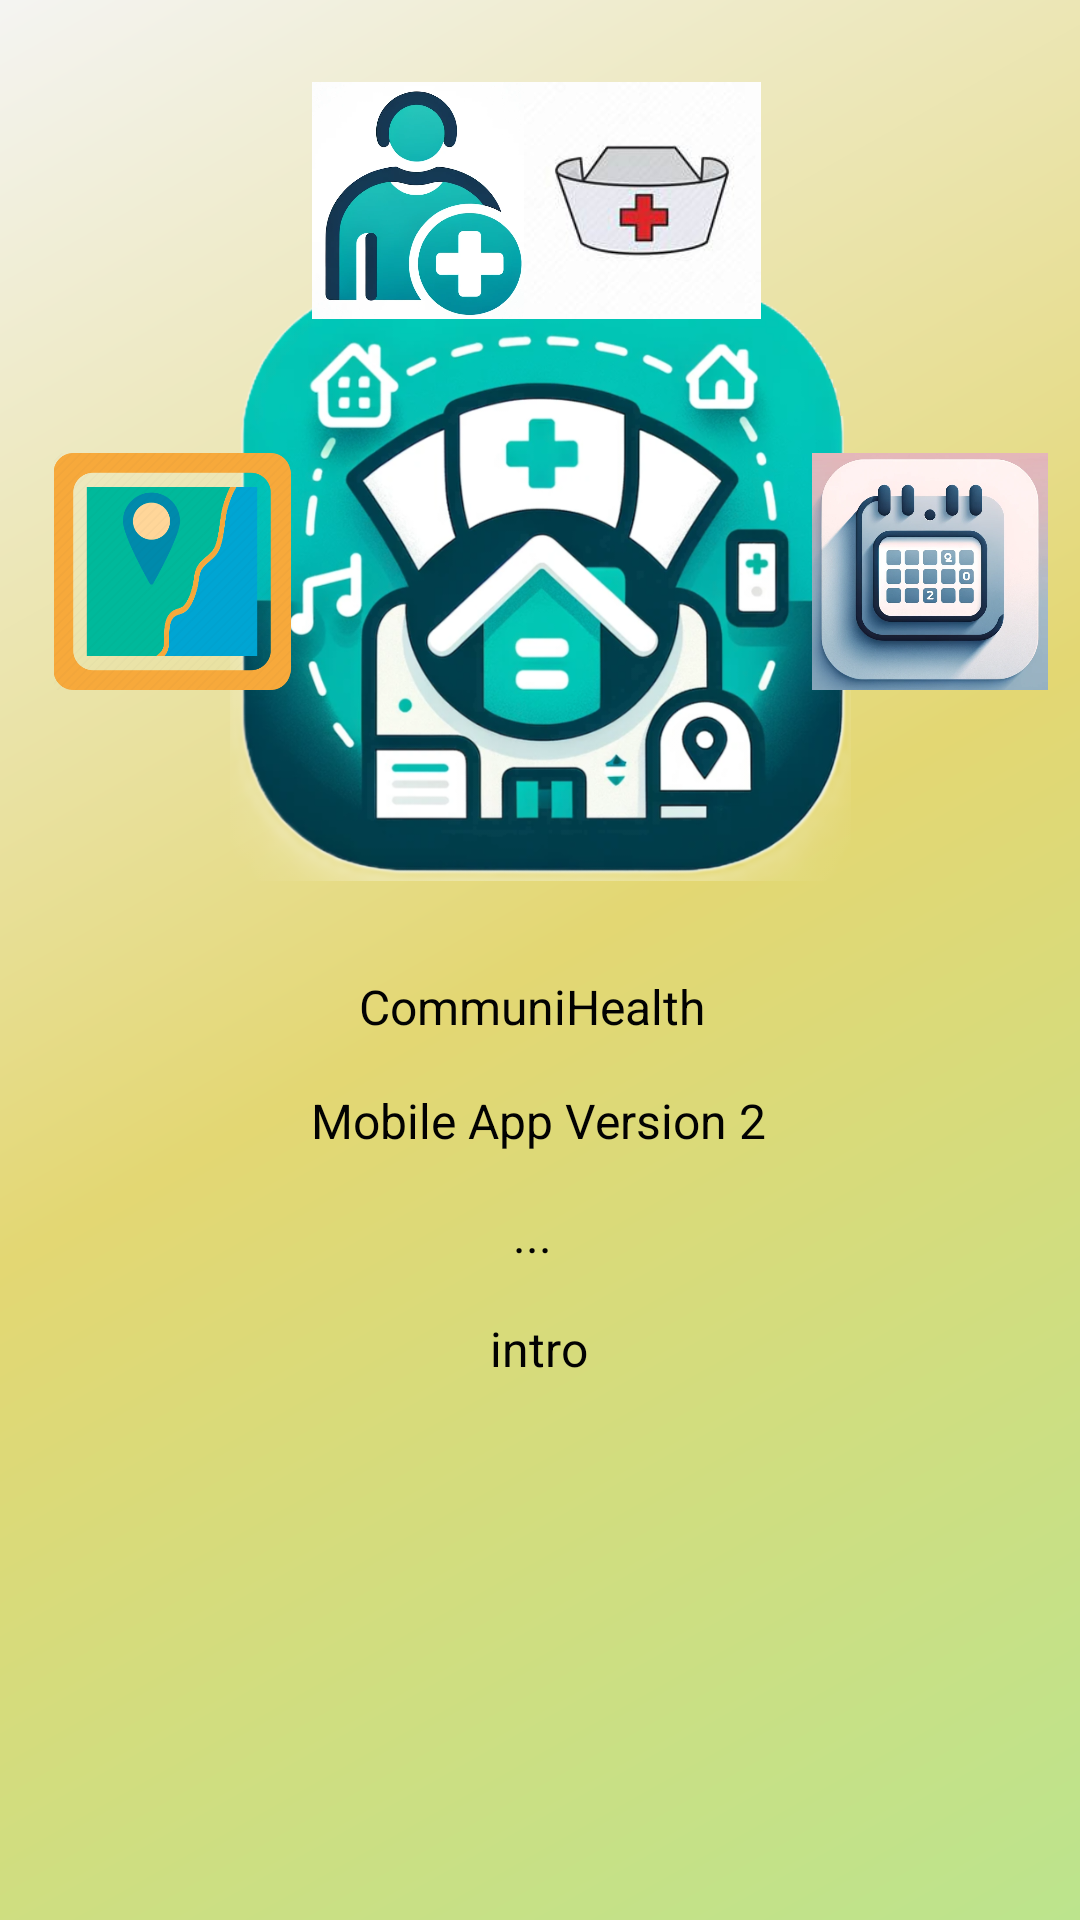

Icons on this 1080px×1920px Android screen, each with the point to tap as [x,y]:
add patient: [419,200]
calendar: [923,571]
nav: [172,571]
nurse: [642,200]
